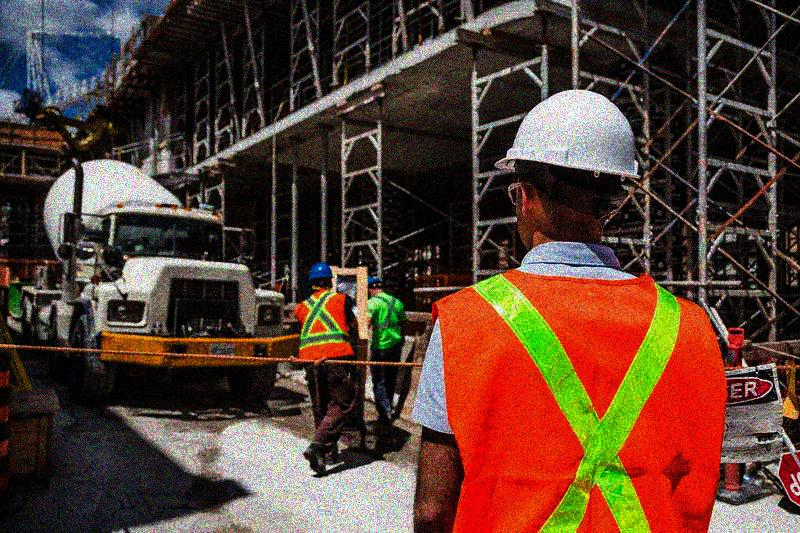helmet: (493, 87, 641, 248), (308, 261, 331, 291), (364, 275, 385, 298)
